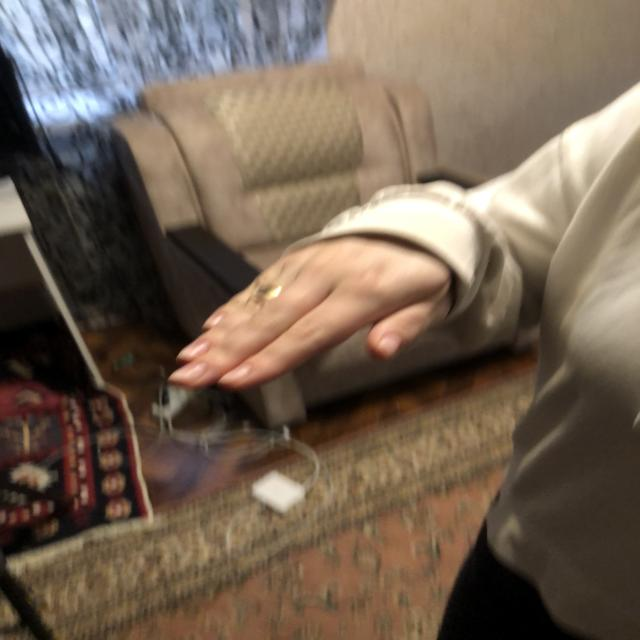paper: (166, 252, 454, 386)
